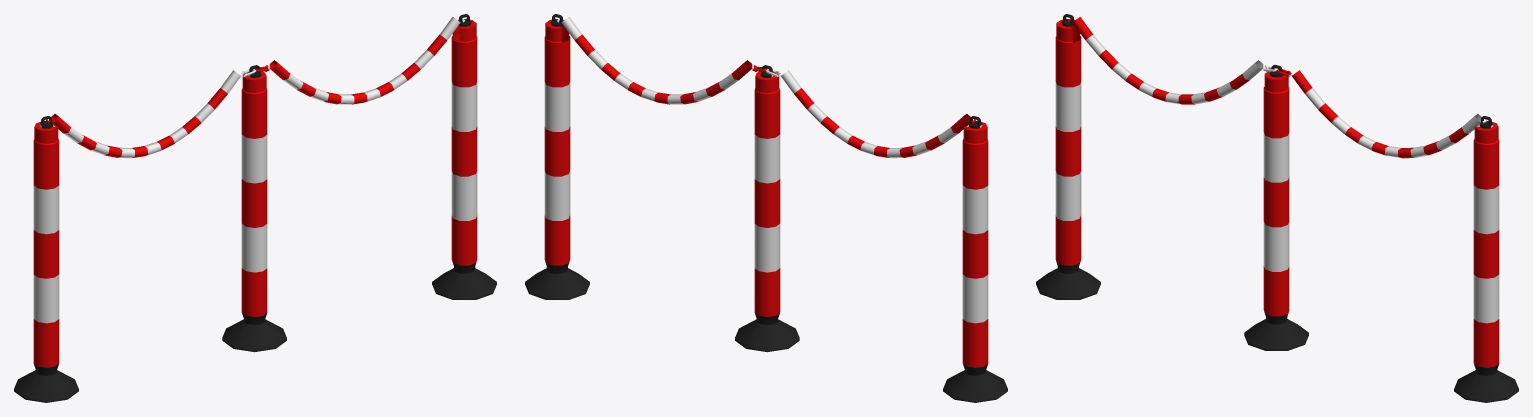
The model's file is chain.obj.
3 views of the same model, side by side, from view 1: azimuth 30°, elevation 25°; view 2: azimuth 150°, elevation 25°; view 3: azimuth 330°, elevation 25° (orthographic).
Visible parts, largest first — view 1: chain; view 2: chain; view 3: chain.
Part boxes in pixels (x1=…): chain: x1=14, y1=14, x2=496, y2=402; chain: x1=525, y1=14, x2=1007, y2=402; chain: x1=1036, y1=14, x2=1518, y2=402.
Bounding box in the file's own units: 4.5 × 2.48 × 0.5352.
